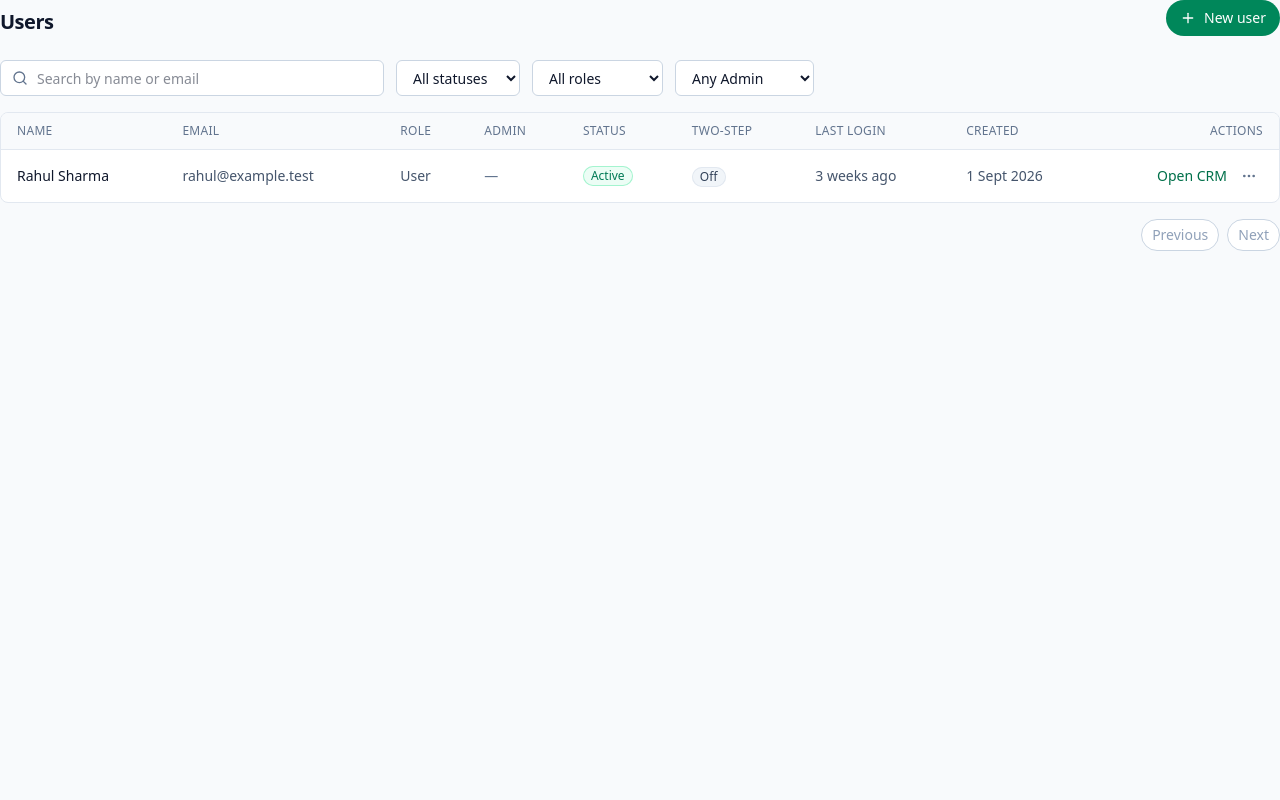
Test case: a user's privacy actions, from their details › exports a user's data with a reference and a confirmed identity check
The image size is (1280, 800).
Click the button "Rahul Sharma": point(63, 176) [17,166,109,186]
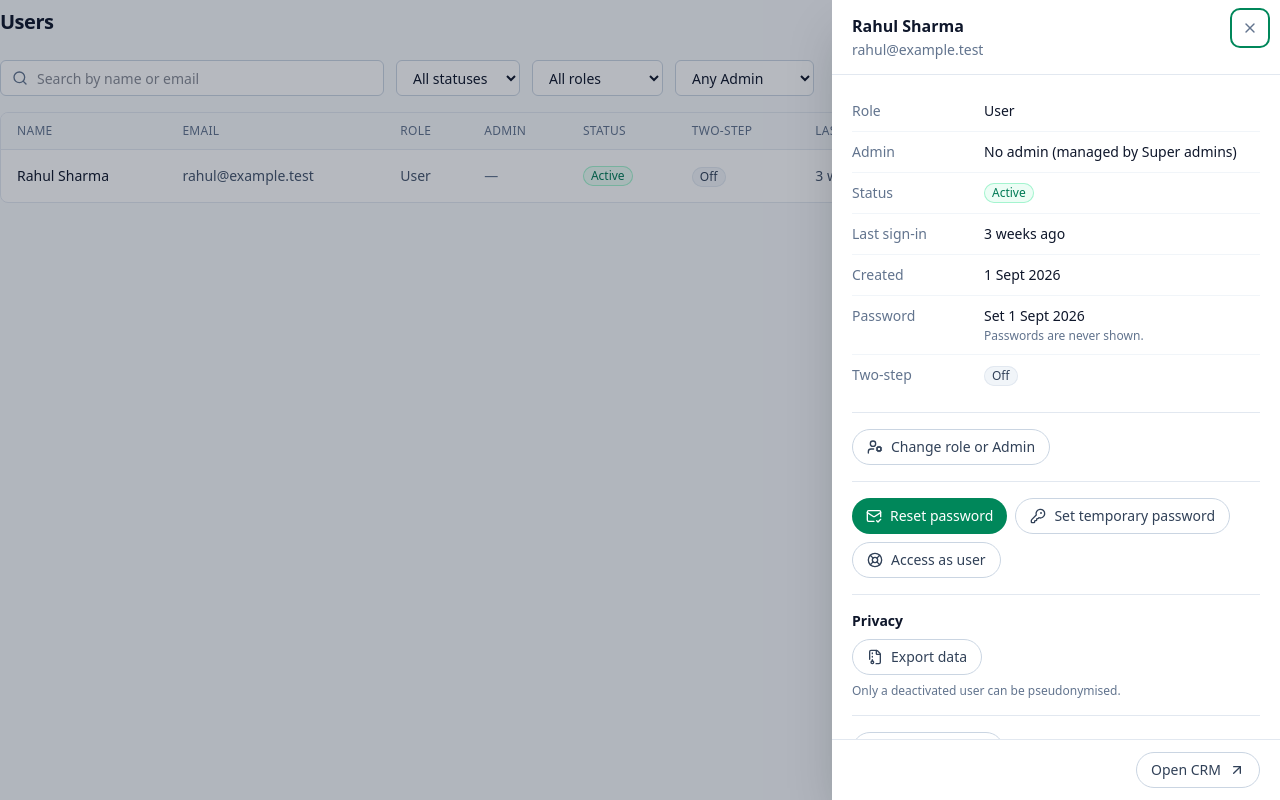
Click the button "Export data": point(917, 657) [852,639,982,675]
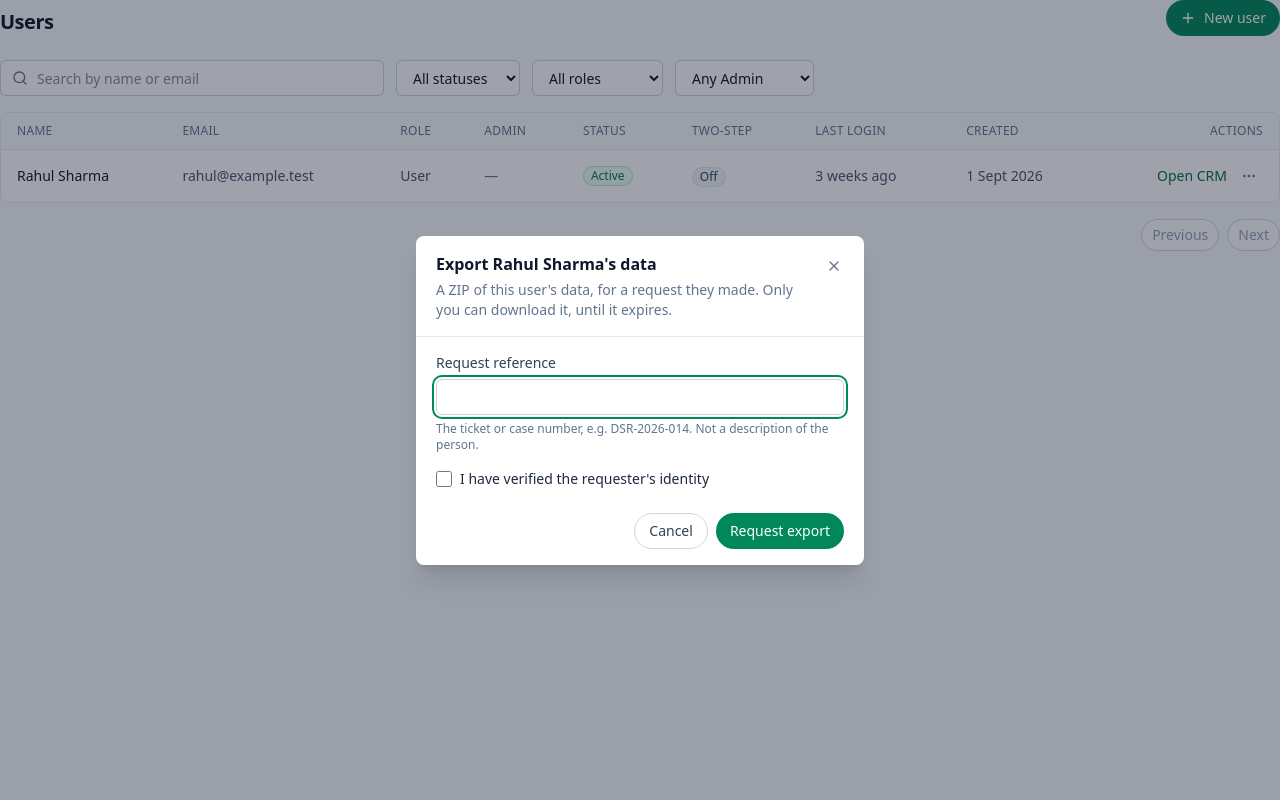
In the field labelled "Request reference": point(640, 396) [436,378,844,414], type "HR-2026-3"
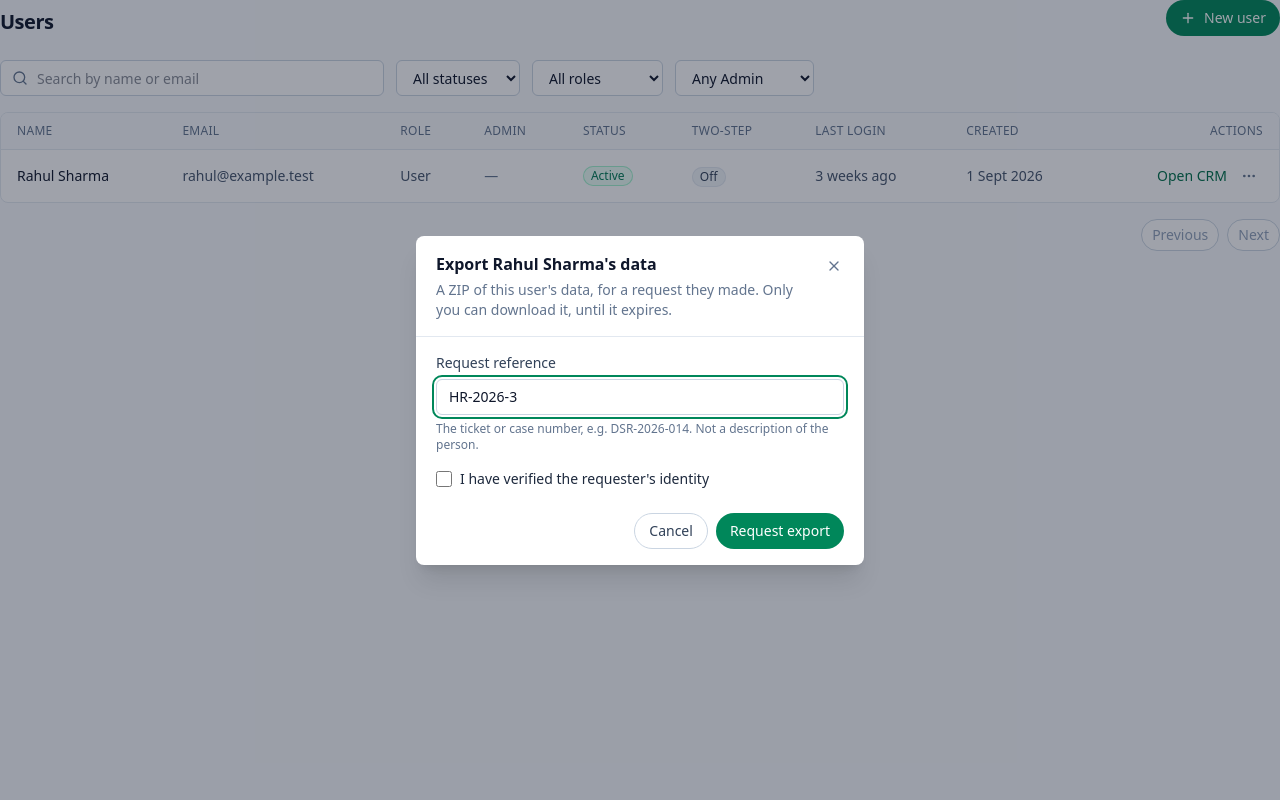
Click the button "Request export": point(780, 530) [716,512,844,548]
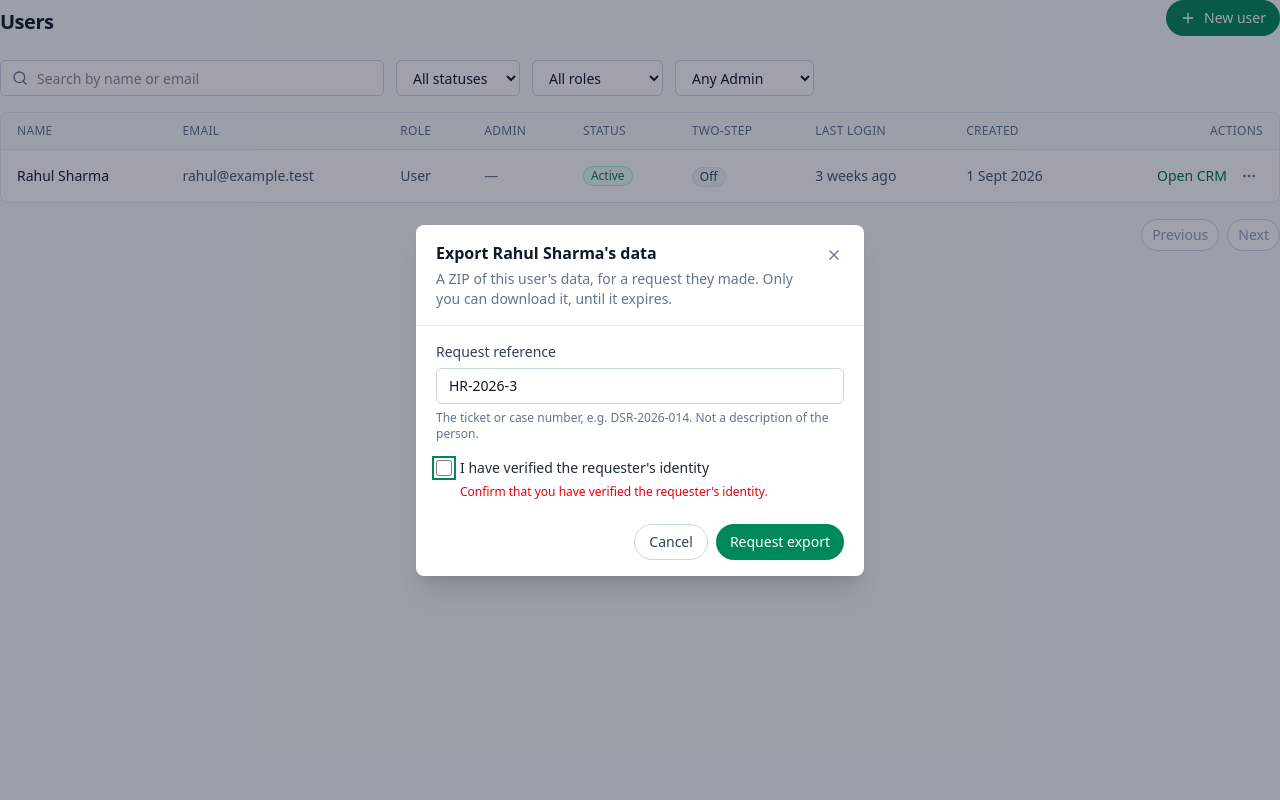
Click the checkbox labelled "I have verified the requester's identity": point(444, 468) [436,460,452,476]
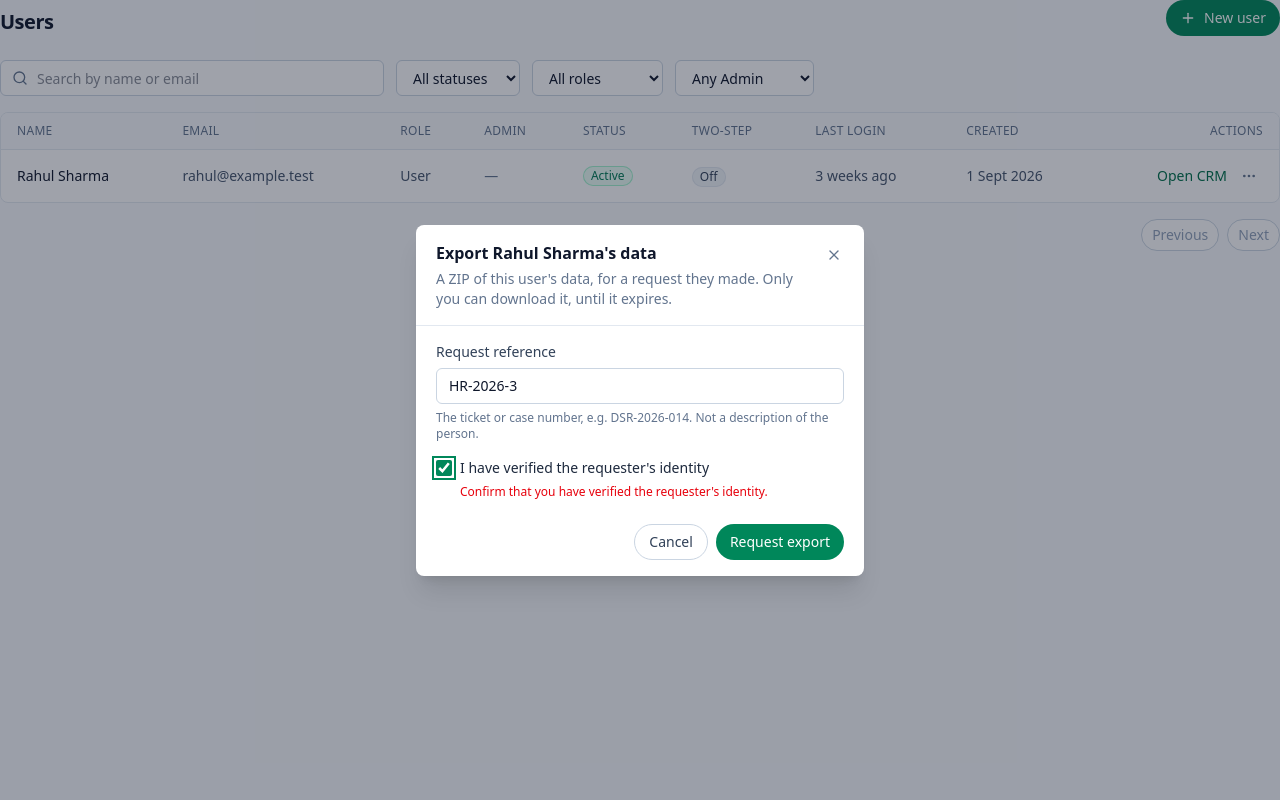
Click the button "Request export": point(780, 542) [716,524,844,560]
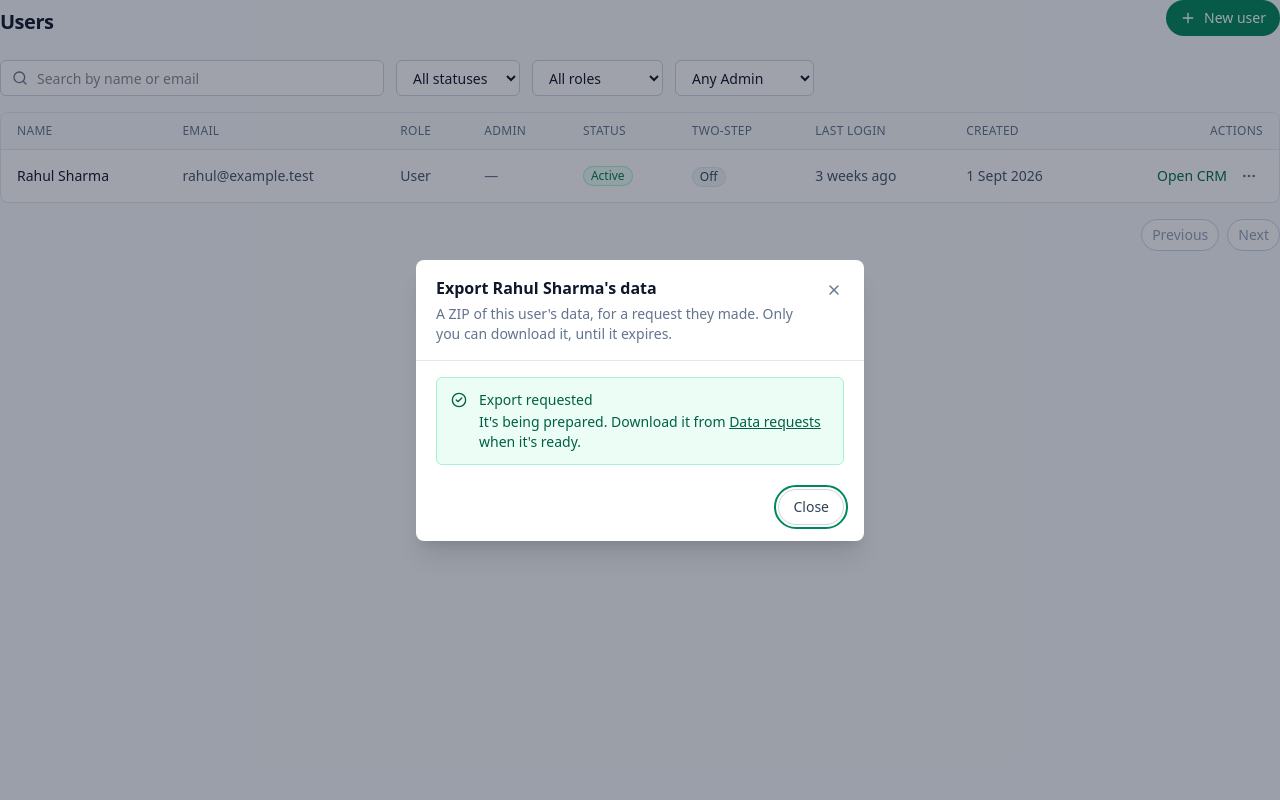
Expected: the text "Export requested" is shown, [479,390,593,408]
